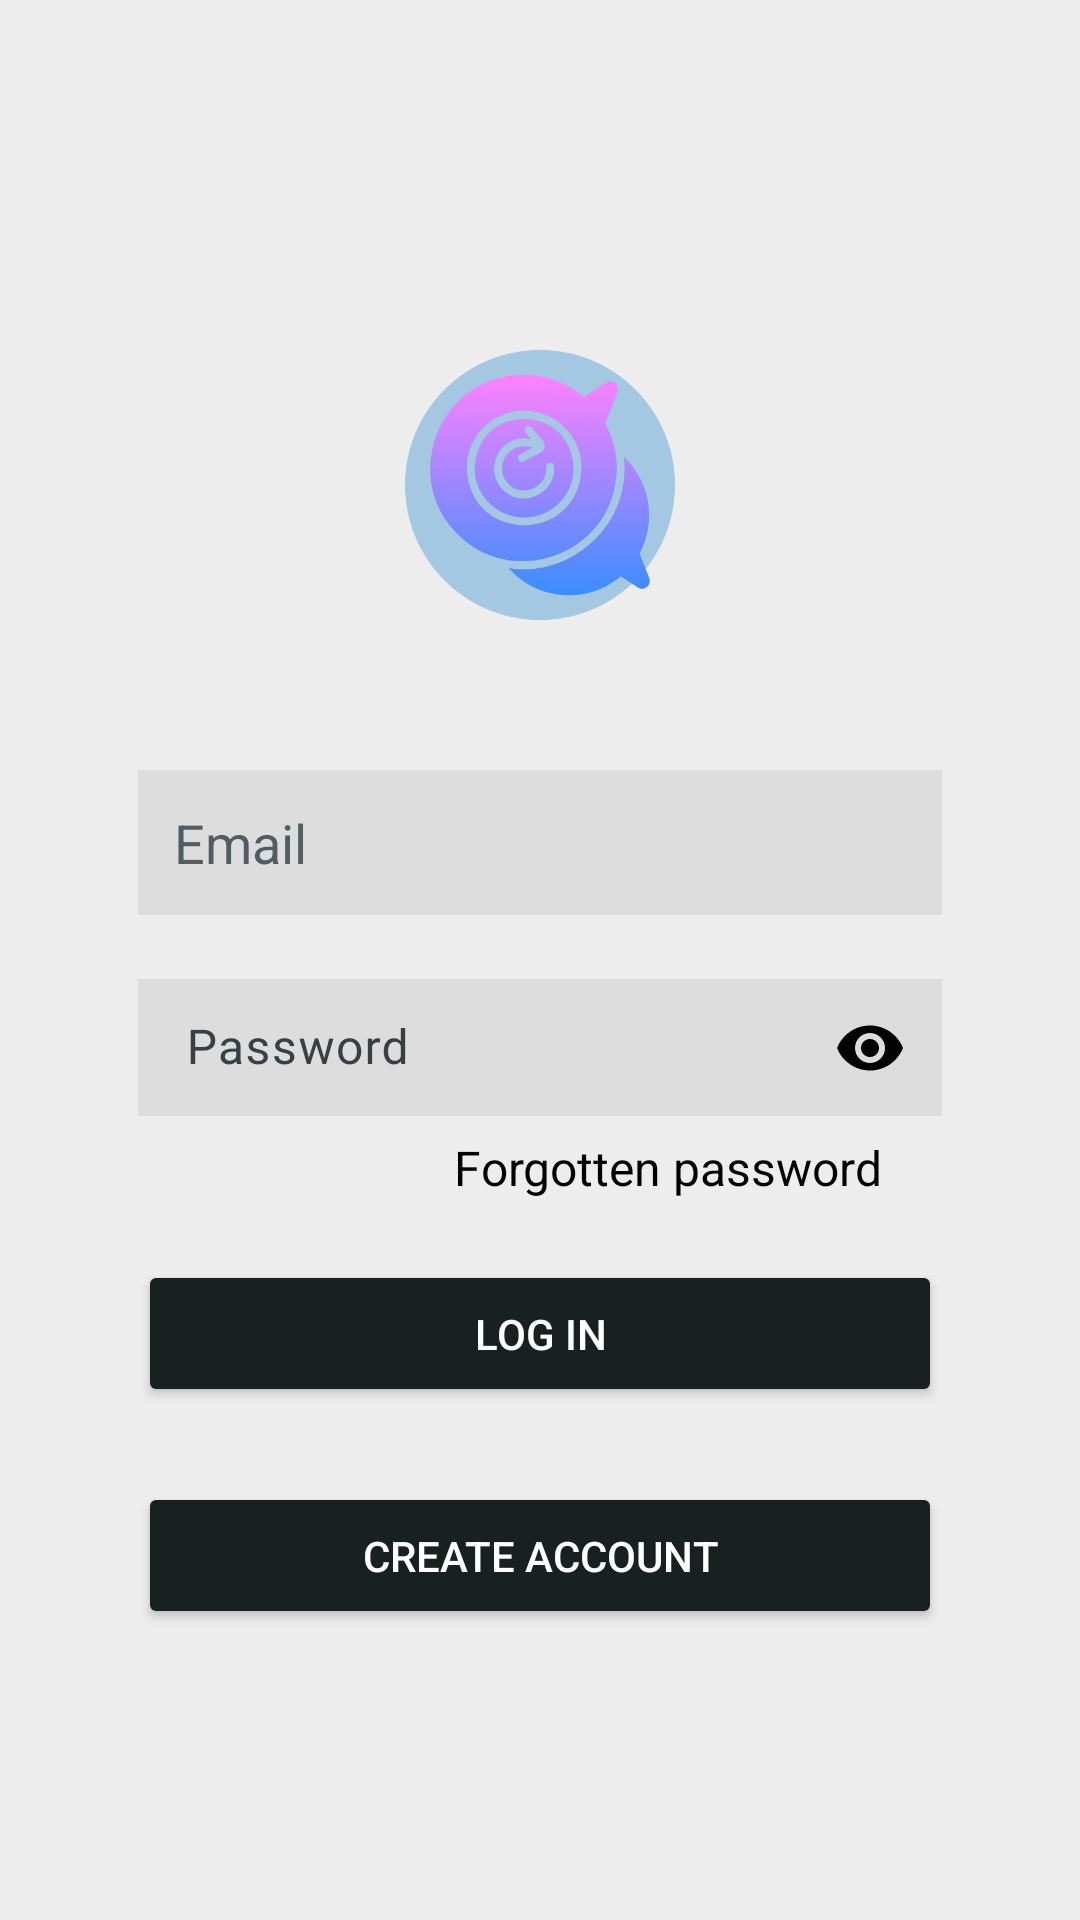

Named icons in this screenshot (1080px×1920px) and their bounding boxes, (x1, y1, x2, y2):
app: (405, 350, 675, 620)
